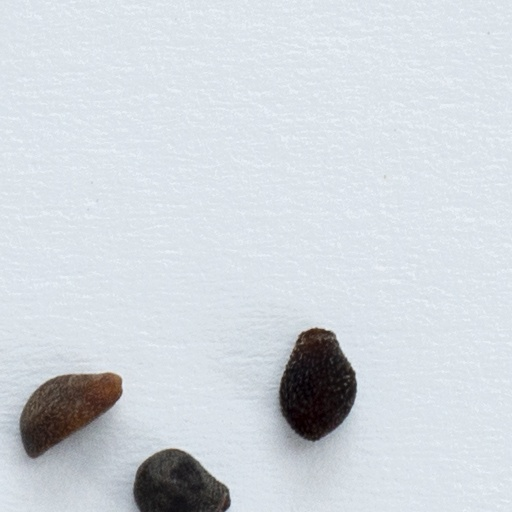Convolvulus-poly: (18, 372, 125, 466), (276, 327, 355, 447), (132, 445, 232, 511)
